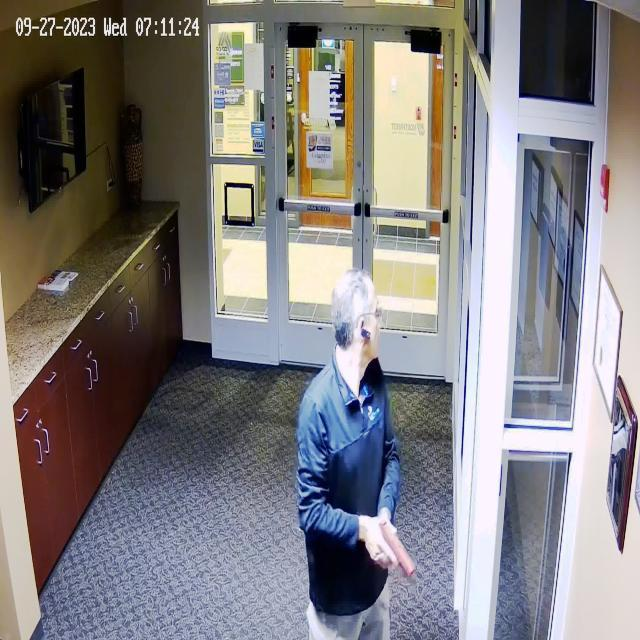Gun: (362, 512, 428, 583)
